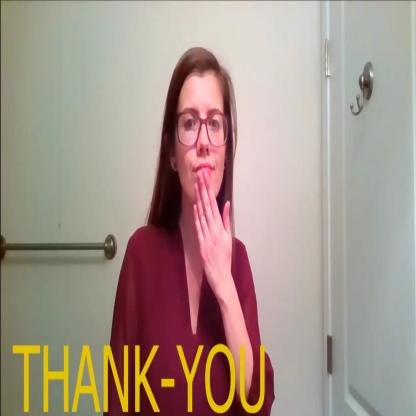ThankYou: (166, 48, 233, 290)
